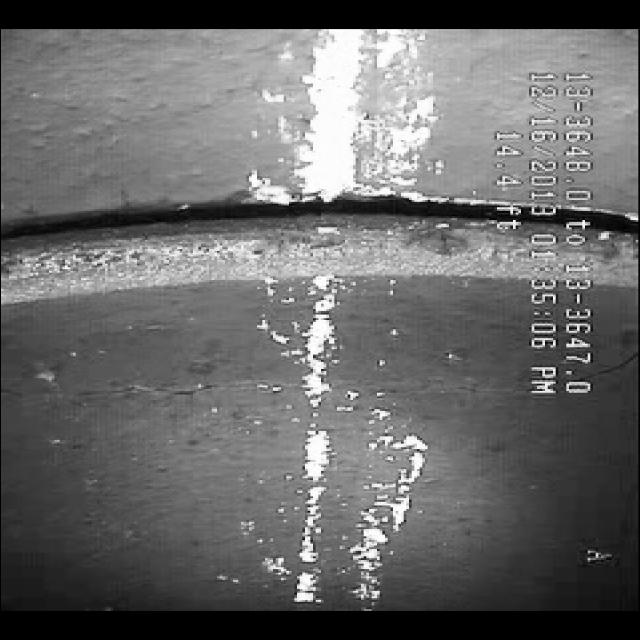Crack: (54, 359, 358, 443)
